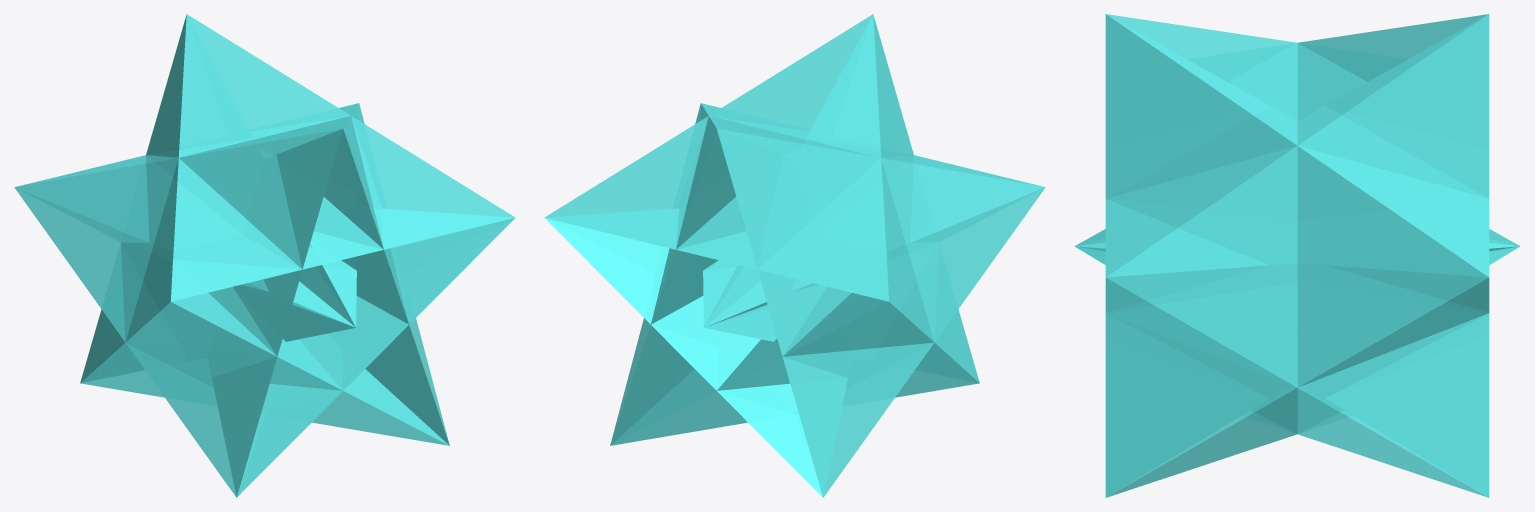
Rendered from 34_PentagrammicAntiprismExcavated.obj.
3 views of the same model, side by side, from view 1: azimuth 30°, elevation 25°; view 2: azimuth 150°, elevation 25°; view 3: azimuth 270°, elevation 25° (orthographic). The views are drawn at different scales.
Size of the model in its own units: 1 by 0.9511 by 0.9152.
